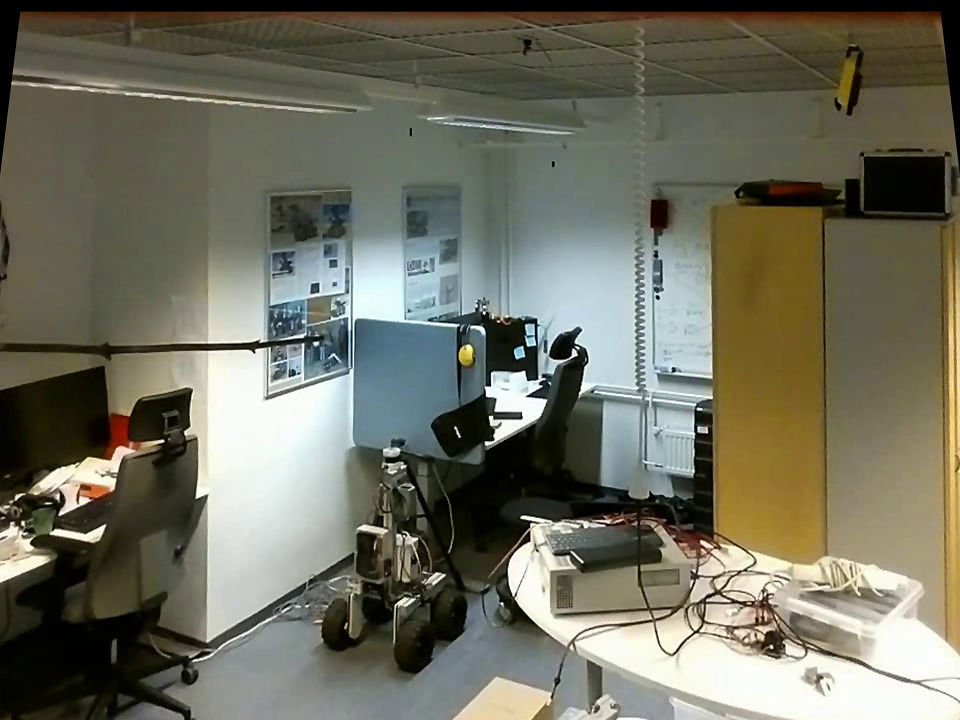aluminum_frame: (648, 177, 658, 370), (647, 361, 718, 386), (652, 176, 746, 191)
branch: (5, 329, 319, 364)
